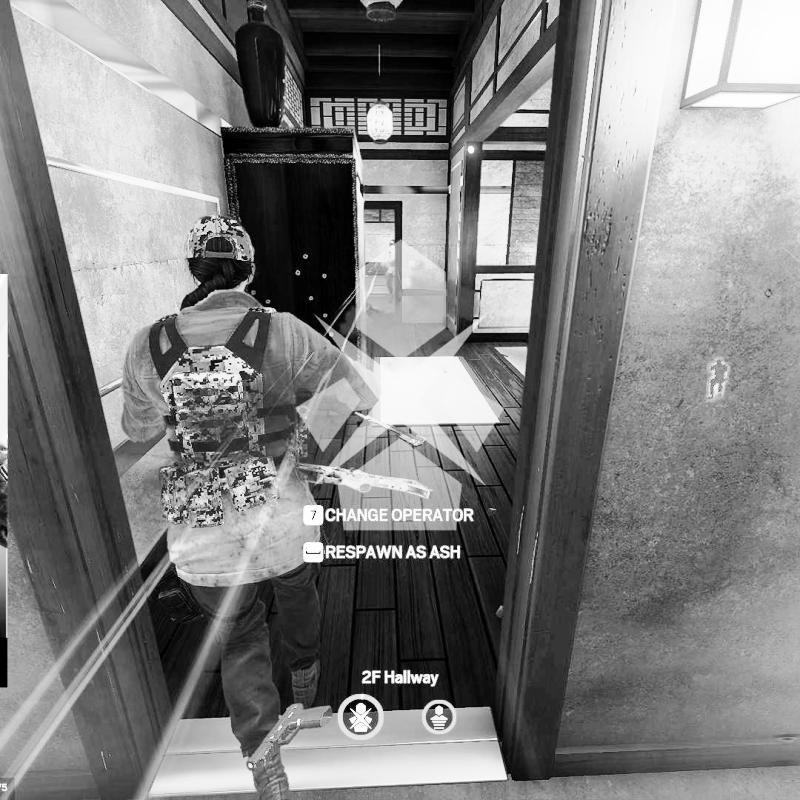Character: (116, 211, 384, 799), (381, 238, 400, 306)
Head: (184, 213, 260, 296), (387, 239, 397, 250)
